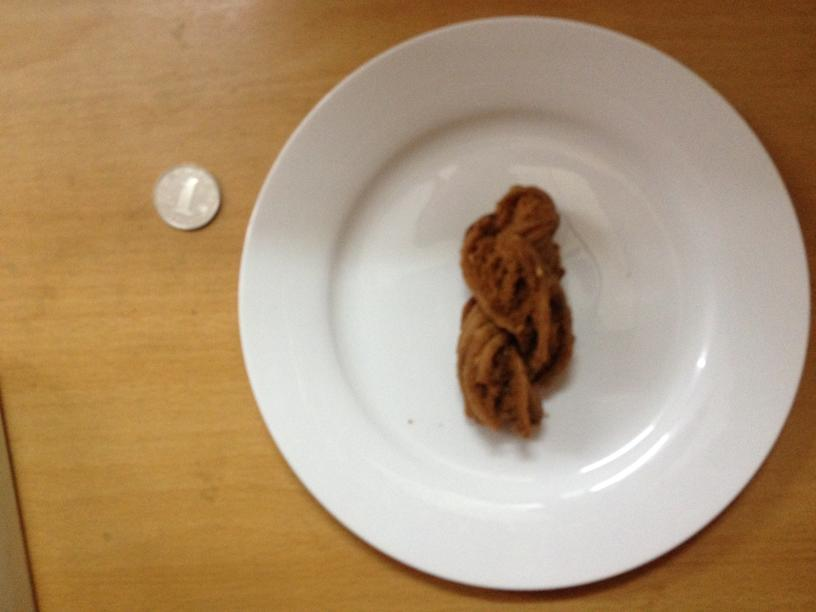coin: (153, 164, 220, 231)
fired_dough_twist: (454, 184, 571, 429)
